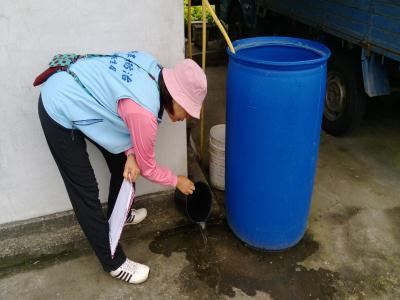bowl: (171, 178, 214, 225)
bucket: (223, 33, 332, 255), (207, 121, 232, 192)
